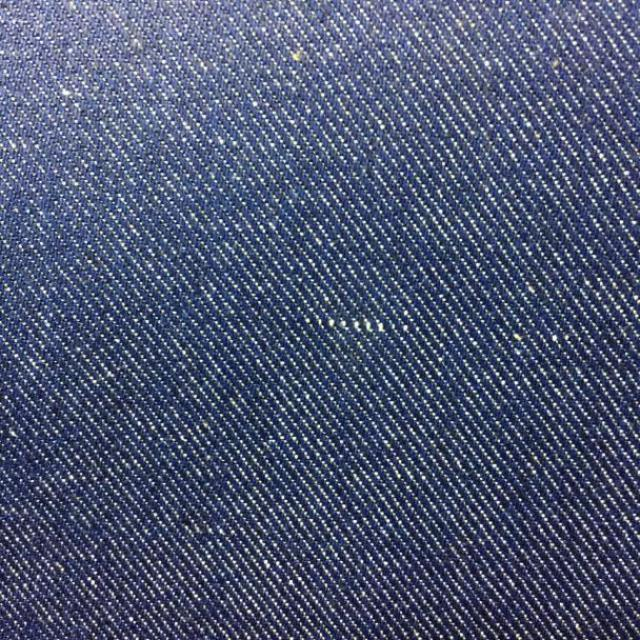Knot: (305, 317, 411, 333)
